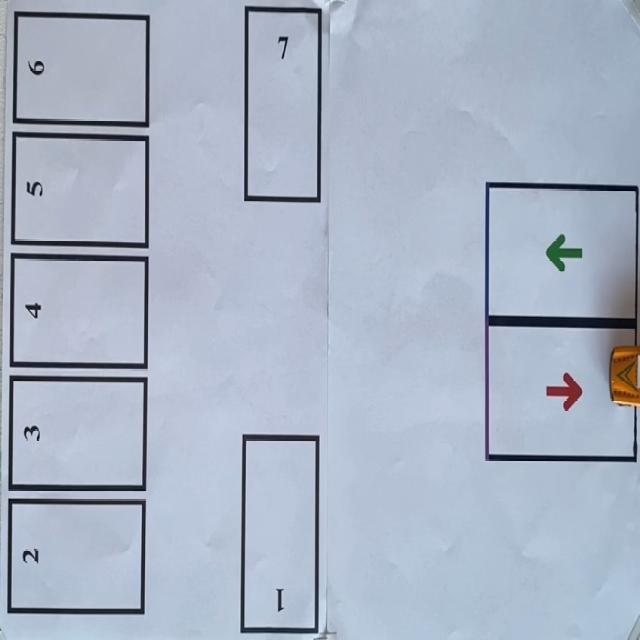car: (610, 346, 639, 407)
